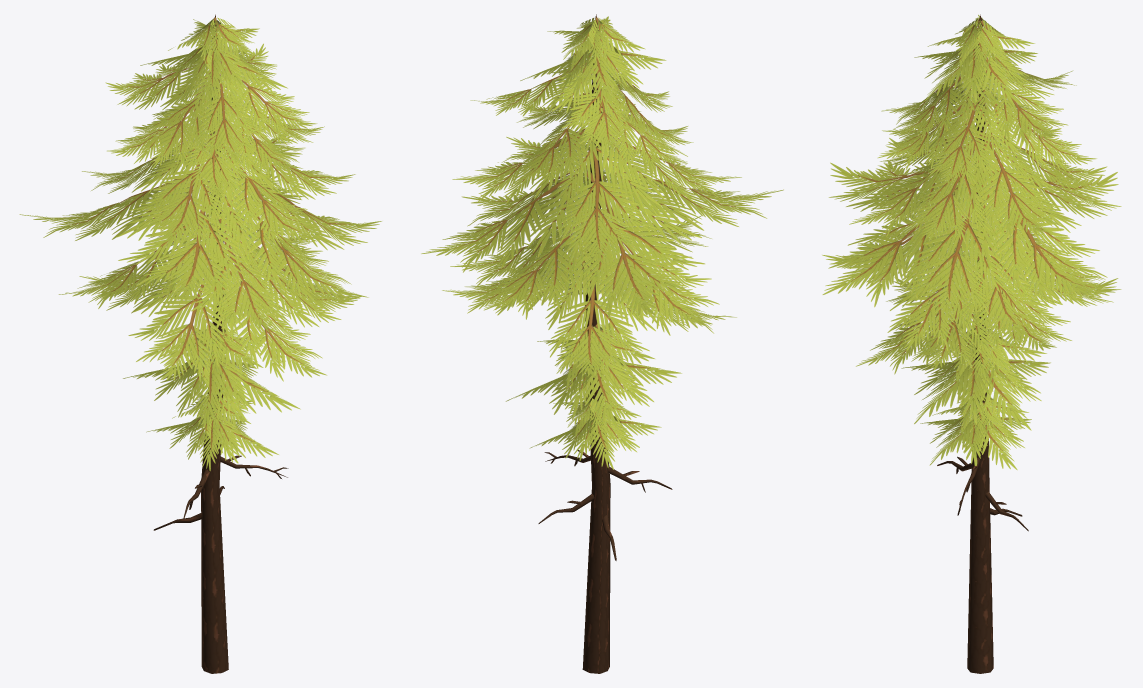
File: PineTree_2_city.glb
The picture shows the model from 3 angles, left to right: view 1: azimuth 30°, elevation 25°; view 2: azimuth 150°, elevation 25°; view 3: azimuth 270°, elevation 25°; orthographic projection.
Parts seen in each view (by area): view 1: PineTree_2; view 2: PineTree_2; view 3: PineTree_2.
Part boxes in pixels (<box>): PineTree_2: <box>19,14,381,673</box>; PineTree_2: <box>421,14,783,673</box>; PineTree_2: <box>822,14,1121,673</box>.
Bounding box in the file's own units: 3.28 × 6.91 × 2.98.
Materials: 2 (2 with a texture image).
